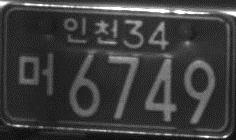3: (122, 19, 144, 48)
4: (144, 58, 176, 121), (148, 20, 169, 50)
6: (67, 53, 100, 118)
7: (106, 55, 140, 118)
9: (182, 59, 216, 124)
머: (17, 52, 54, 96)
인천_O: (63, 16, 119, 44)
